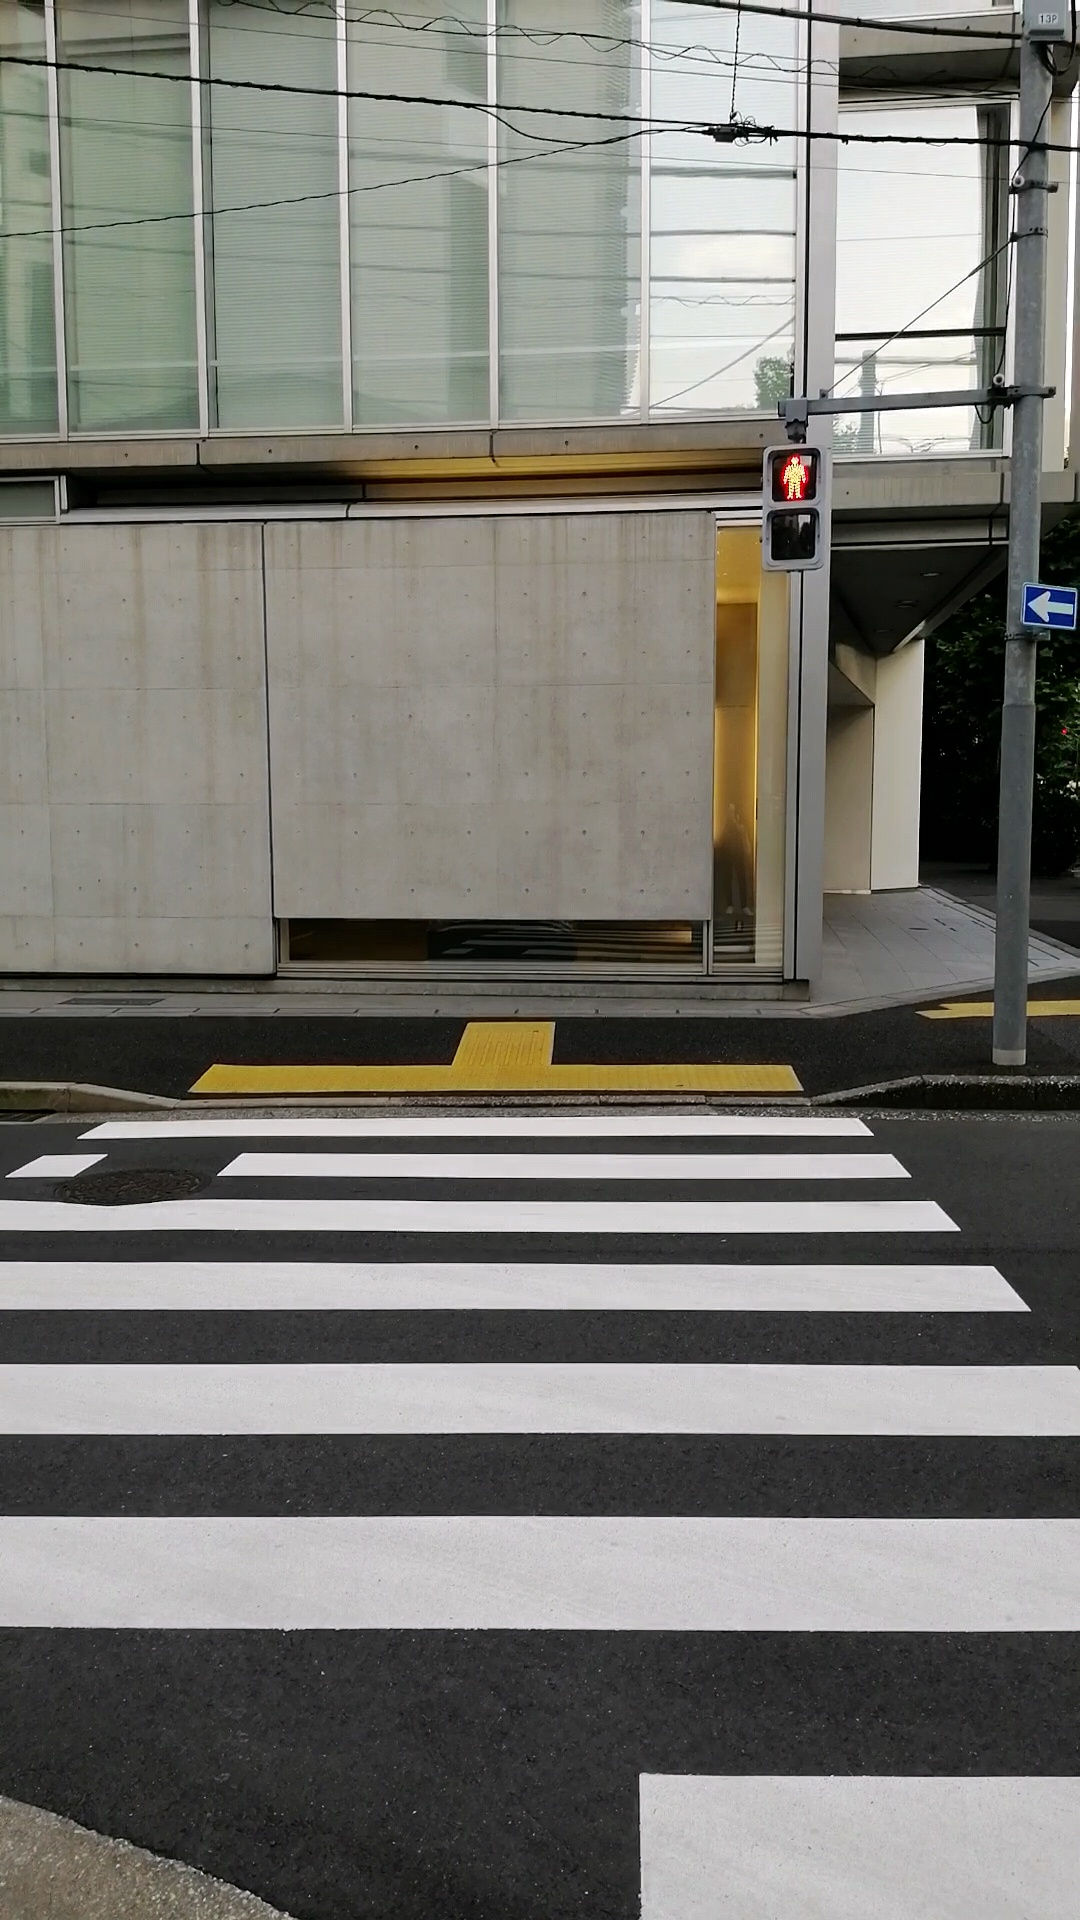red: (761, 444, 824, 567)
